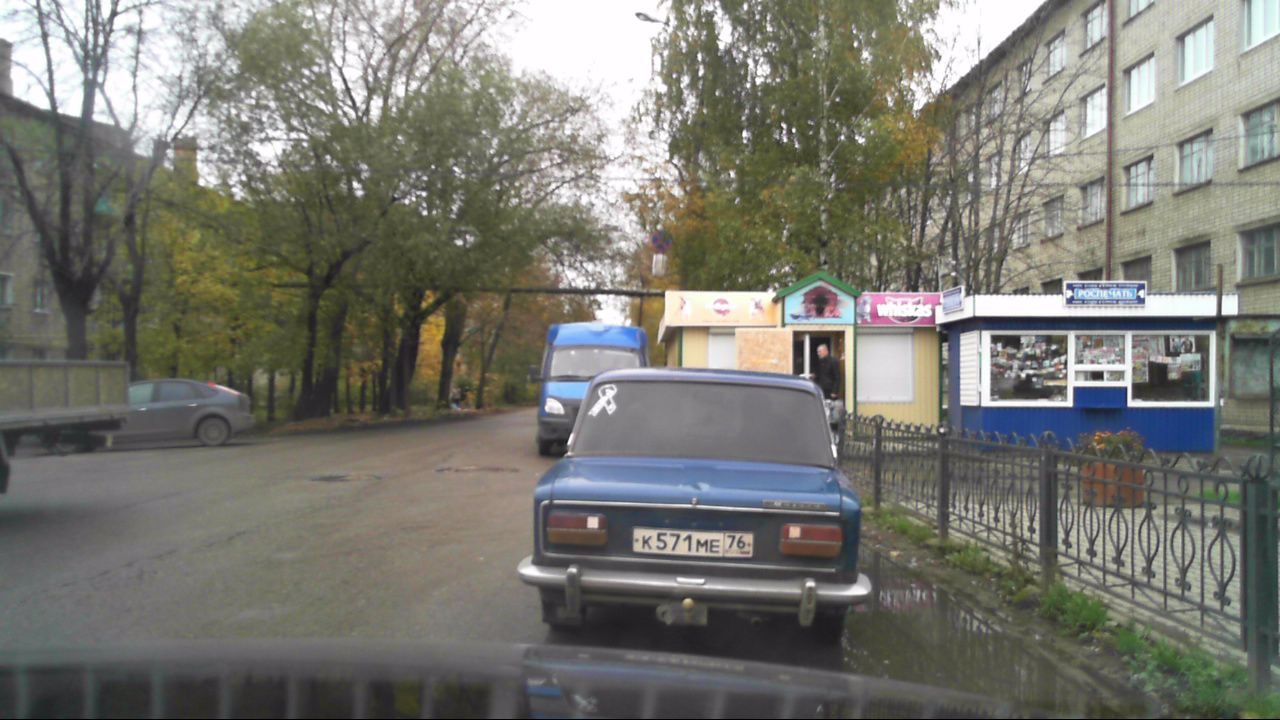No Parking: (651, 229, 674, 254)
